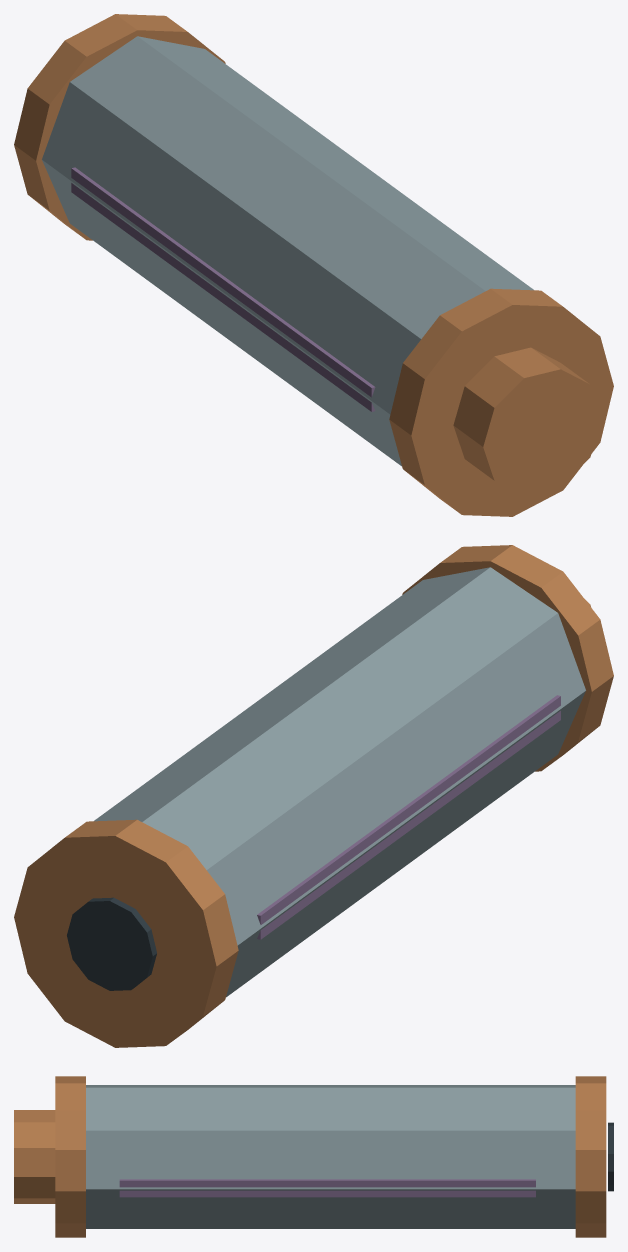
The model's file is AEW_Suppressor_StarBaffle.fbx.
3 renders of one model, top to bottom at view 1: azimuth 30°, elevation 25°; view 2: azimuth 150°, elevation 25°; view 3: azimuth 270°, elevation 25°, orthographic. The views are drawn at different scales.
Visible parts, largest first — view 1: AEW_Suppressor_StarBaffle; view 2: AEW_Suppressor_StarBaffle; view 3: AEW_Suppressor_StarBaffle.
Boxes of the visible parts, x1=… form: AEW_Suppressor_StarBaffle: x1=14, y1=14, x2=613, y2=516; AEW_Suppressor_StarBaffle: x1=14, y1=545, x2=613, y2=1047; AEW_Suppressor_StarBaffle: x1=14, y1=1076, x2=613, y2=1237.
Bounding box in the file's own units: 0.106 × 0.106 × 0.392.
